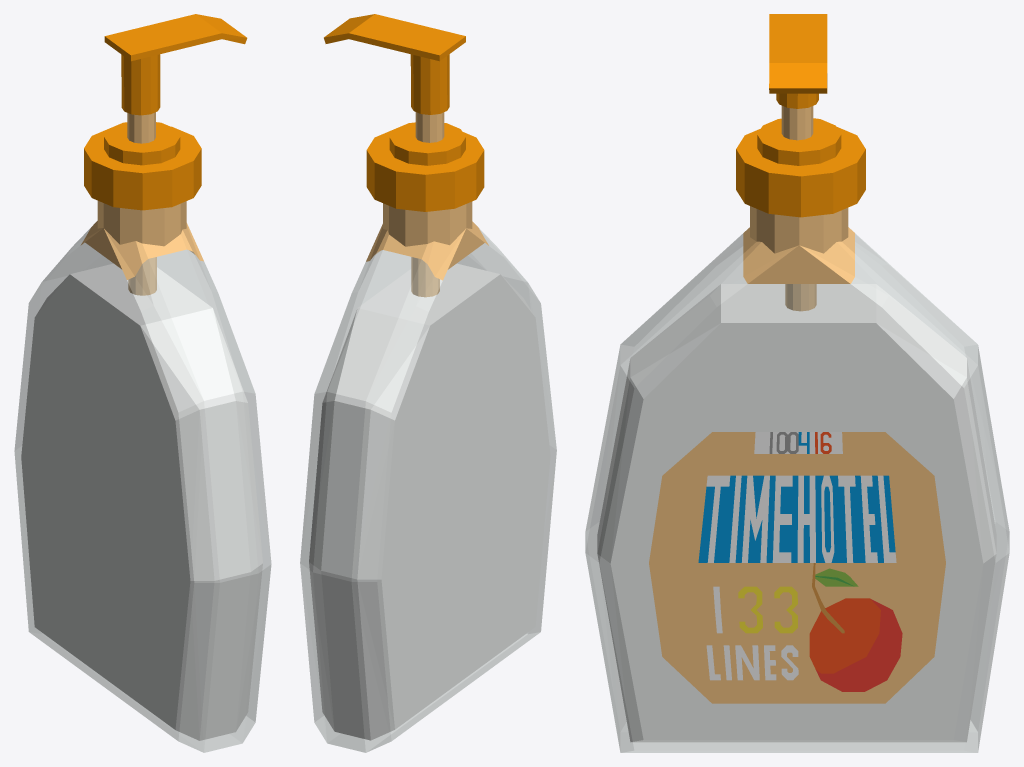
The model's file is handSanitizer.obj.
The picture shows the model from 3 angles, left to right: view 1: azimuth 30°, elevation 25°; view 2: azimuth 150°, elevation 25°; view 3: azimuth 270°, elevation 25°; orthographic projection. The views are drawn at different scales.
Parts seen in each view (by area): view 1: group506945419; view 2: group506945419; view 3: group506945419.
Part boxes in pixels (x1,y1,x2,y2): group506945419: [14, 14, 271, 752]; group506945419: [300, 14, 556, 752]; group506945419: [585, 14, 1009, 752].
Size of the model in its own units: 0.6402 by 2.81 by 1.51.
